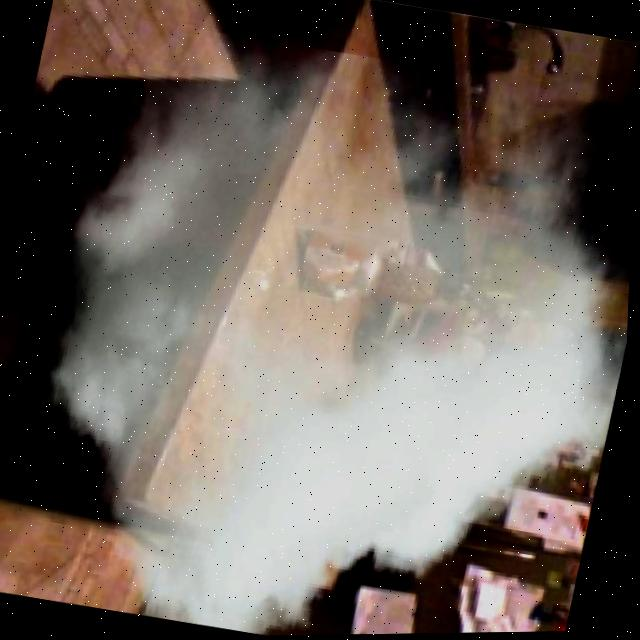Smoke: (0, 16, 637, 637)
